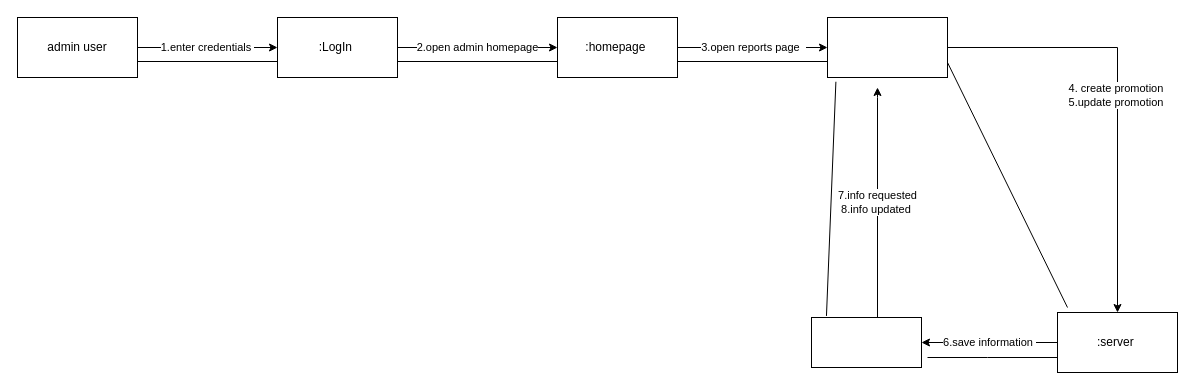
The diagram is 1195 pixels wide and 390 high, and some of its shapes have lost their labels. Here are the shapes that lost their labels. From the top down, the centre of each, then its label:
the point at 887,47: :generateReports
the point at 866,342: :database
